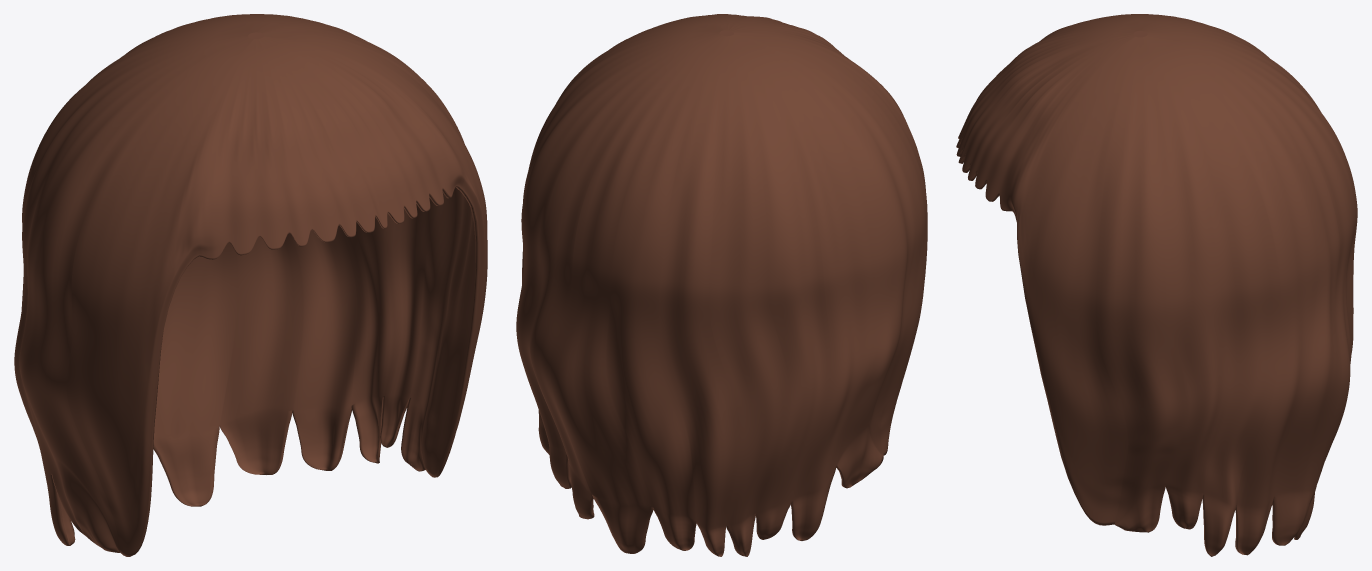
File: long-none.glb
3 views of the same model, side by side, from view 1: azimuth 30°, elevation 25°; view 2: azimuth 150°, elevation 25°; view 3: azimuth 270°, elevation 25° (orthographic). The views are drawn at different scales.
Visible parts, largest first — view 1: Hair / rounded long fringe; view 2: Hair / rounded long fringe; view 3: Hair / rounded long fringe.
Boxes of the visible parts, x1,y1,x2,y2 form: Hair / rounded long fringe: [14, 14, 487, 556]; Hair / rounded long fringe: [516, 14, 927, 556]; Hair / rounded long fringe: [956, 14, 1357, 556].
Bounding box in the file's own units: 0.8534 × 1.06 × 0.7801.
